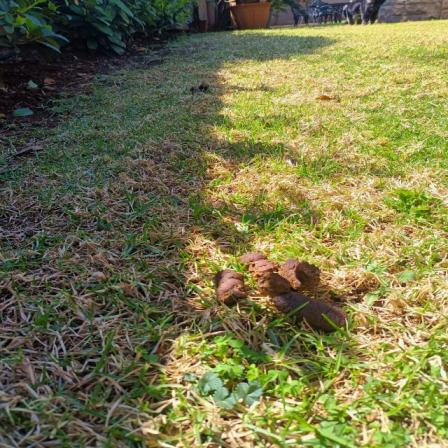dog-poop: (210, 243, 367, 335)
